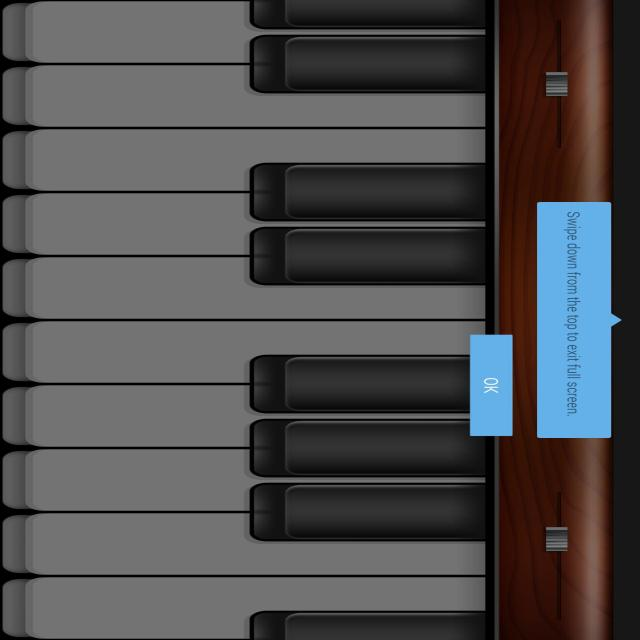button: (540, 14, 579, 157), (472, 336, 510, 435), (544, 492, 569, 624)
image: (4, 0, 640, 640)
text: (562, 208, 586, 421)
